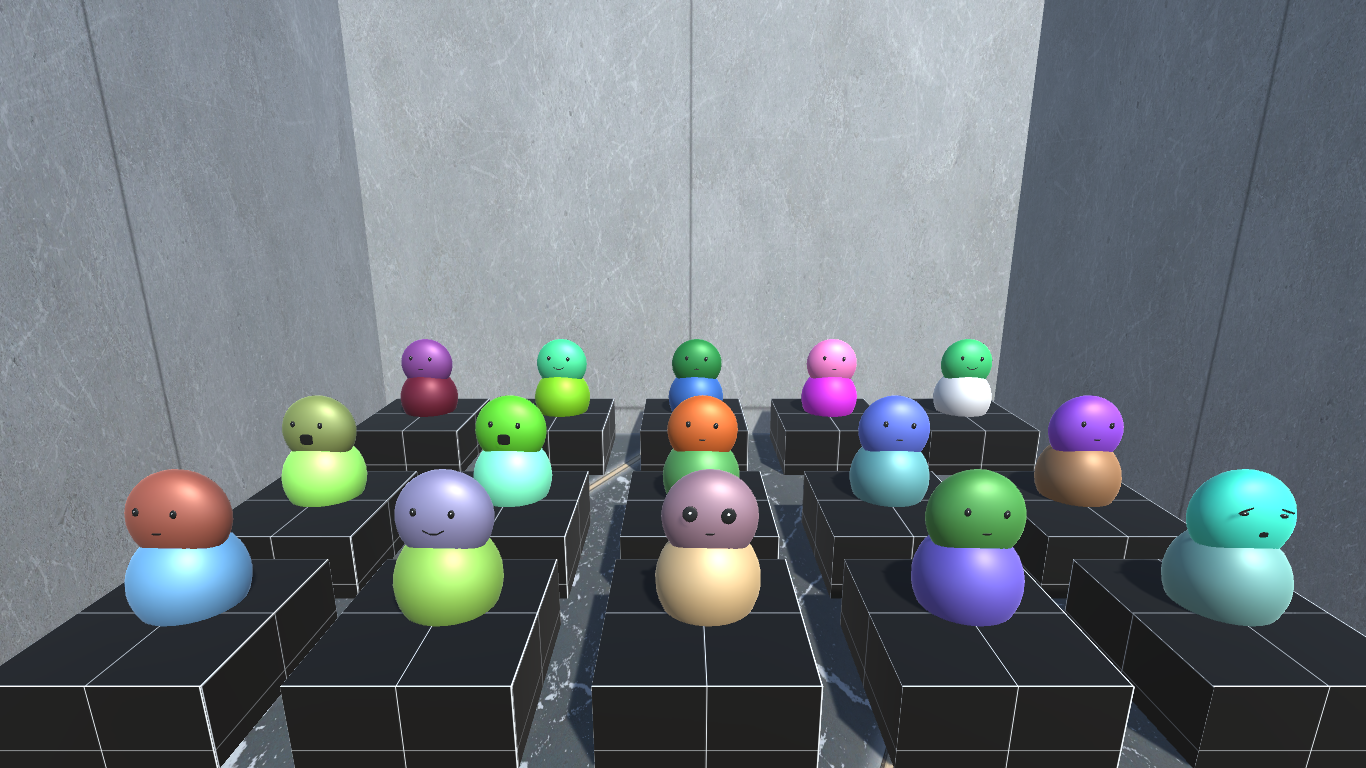blob_atento: (657, 469, 758, 552)
blob_entediado: (1172, 455, 1315, 561)
blob_feliz: (394, 464, 489, 554), (938, 326, 994, 386), (536, 335, 584, 381)
blob_normal: (122, 467, 237, 556), (922, 461, 1029, 555), (665, 391, 744, 456), (1048, 394, 1130, 452), (858, 393, 933, 456), (801, 334, 864, 384), (669, 339, 724, 388), (400, 336, 459, 379)
blob_surpreso: (272, 389, 362, 455), (471, 389, 545, 456)
